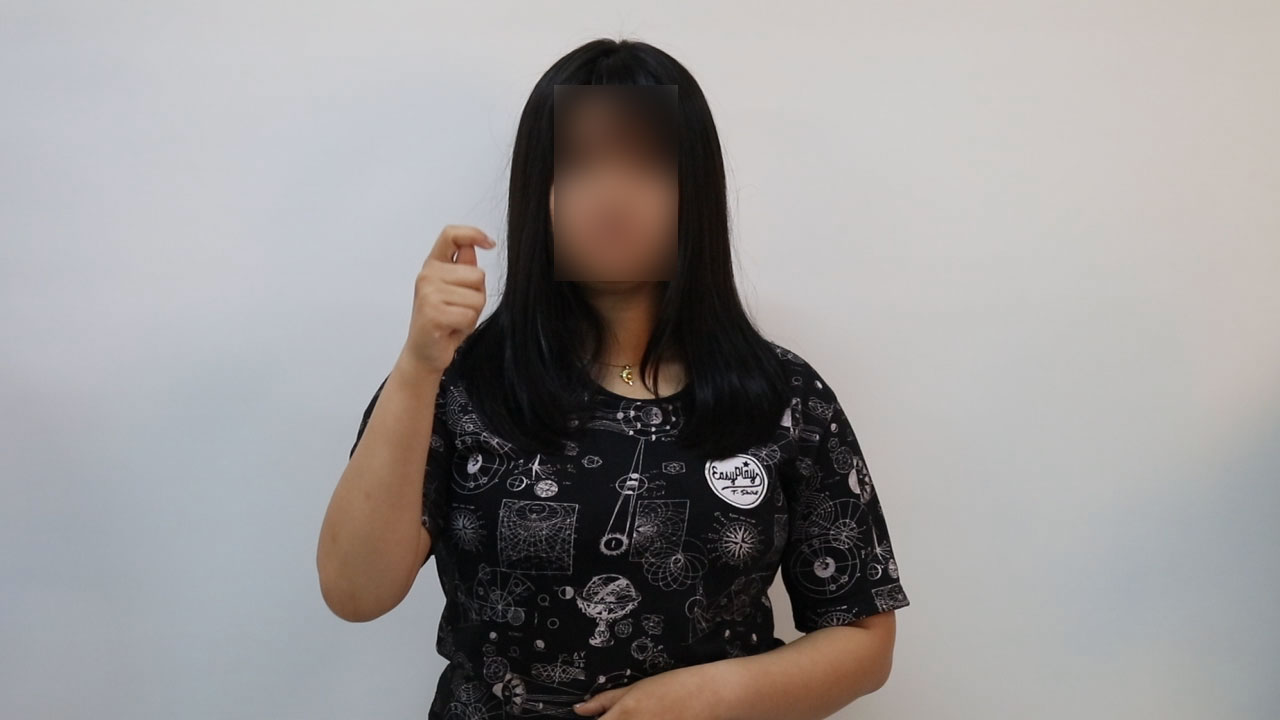or: (401, 213, 508, 386)
